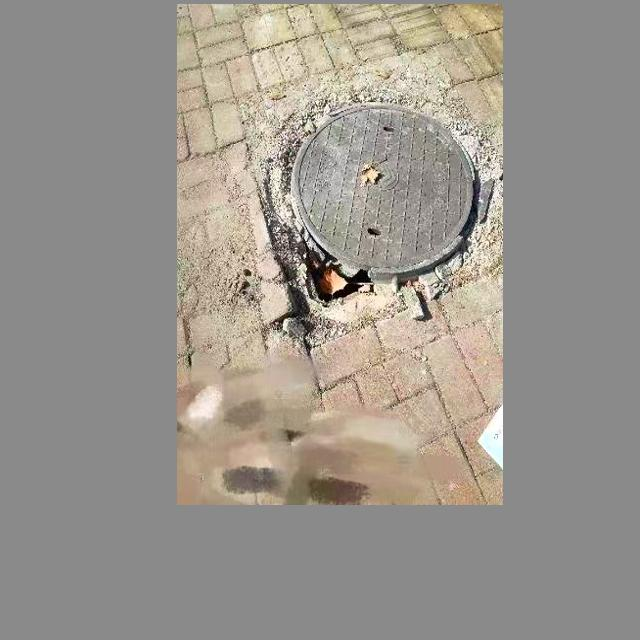circle: (258, 90, 503, 298)
